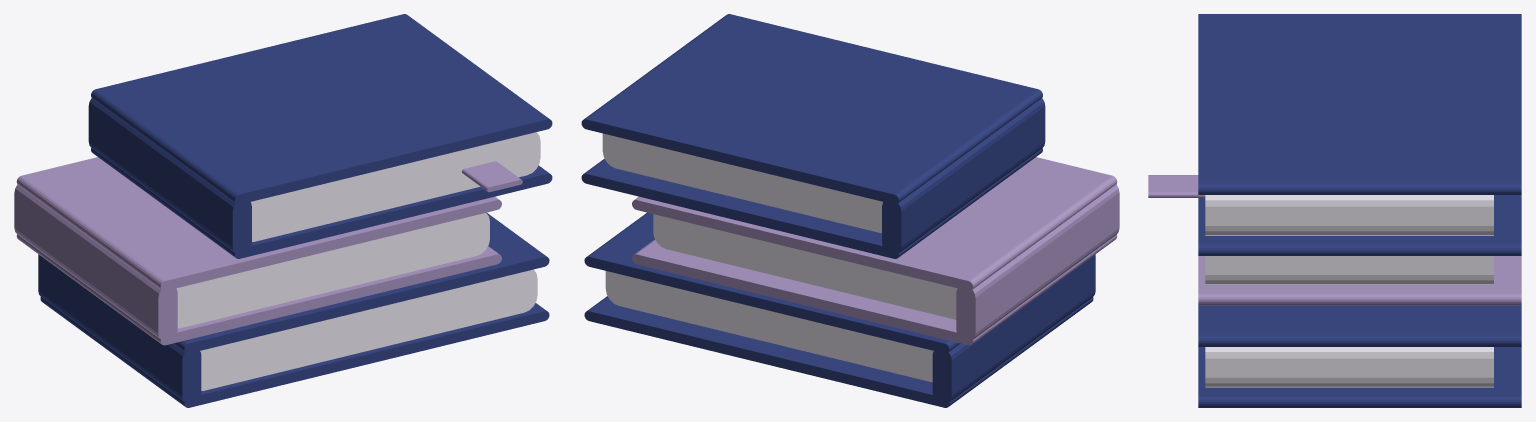
File: books.glb
3 renders of one model, left to right at view 1: azimuth 30°, elevation 25°; view 2: azimuth 150°, elevation 25°; view 3: azimuth 270°, elevation 25°, orthographic. The views are drawn at different scales.
Parts seen in each view (by area): view 1: cover 2 0.175, cover 1 0.175, pages 0, pages 1, pages 2, spine 2, spine 1, spine 0, cover 0 0.175, cover 0 0, cover 1 0, cover 2 0 (+1 smaller); view 2: cover 2 0.175, cover 1 0.175, pages 0, pages 1, pages 2, cover 0 0, spine 1, cover 1 0, spine 2, cover 2 0, spine 0, cover 0 0.175; view 3: cover 2 0.175, cover 0 0.175, pages 0, pages 2, pages 1, cover 0 0, cover 2 0, cover 1 0, ribbon.
Part boxes in pixels (box(x1,y1,x2,y2)): cover 2 0.175: box(91, 14, 552, 204); cover 1 0.175: box(16, 157, 501, 290); pages 0: box(200, 269, 537, 390); pages 1: box(176, 213, 489, 328); pages 2: box(251, 132, 540, 241); spine 2: box(88, 98, 251, 254); spine 1: box(14, 184, 177, 341); spine 0: box(38, 254, 201, 403); cover 0 0.175: box(173, 212, 549, 353); cover 0 0: box(40, 297, 549, 407); cover 1 0: box(16, 234, 501, 345); cover 2 0: box(91, 148, 552, 258); cover 2 0.175: box(581, 14, 1042, 204); cover 1 0.175: box(632, 157, 1117, 290); pages 0: box(605, 271, 933, 382); pages 1: box(653, 214, 957, 319); pages 2: box(602, 133, 882, 233); cover 0 0: box(584, 296, 1093, 407); spine 1: box(956, 184, 1119, 341); cover 1 0: box(632, 234, 1117, 345); spine 2: box(882, 98, 1045, 254); cover 2 0: box(581, 148, 1042, 258); spine 0: box(932, 254, 1095, 403); cover 0 0.175: box(584, 212, 960, 353); cover 2 0.175: box(1198, 14, 1521, 194); cover 0 0.175: box(1198, 305, 1521, 346); pages 0: box(1205, 347, 1493, 387); pages 2: box(1205, 195, 1493, 235); pages 1: box(1205, 256, 1493, 284); cover 0 0: box(1198, 347, 1521, 407); cover 2 0: box(1198, 195, 1521, 255); cover 1 0: box(1198, 256, 1521, 305); ribbon: box(1148, 175, 1205, 197).
Bounding box in the file's own units: 1.33 × 0.647 × 0.97.
